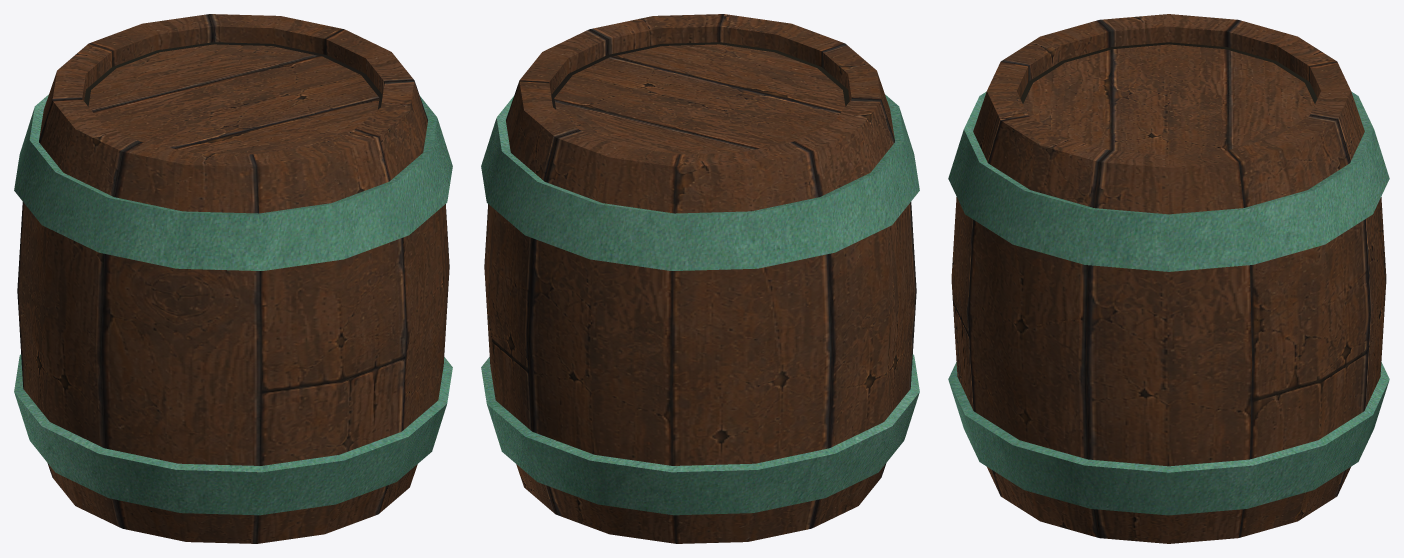
The model's file is Wood_Barrel_2.fbx.
The picture shows the model from 3 angles, left to right: view 1: azimuth 30°, elevation 25°; view 2: azimuth 150°, elevation 25°; view 3: azimuth 270°, elevation 25°; orthographic projection.
Visible parts, largest first — view 1: Wood_Barrel_2; view 2: Wood_Barrel_2; view 3: Wood_Barrel_2.
Boxes of the visible parts, x1,y1,x2,y2 form: Wood_Barrel_2: (14,14,452,543); Wood_Barrel_2: (481,14,919,543); Wood_Barrel_2: (948,14,1389,543).
Size of the model in its own units: 77.9 by 73.2 by 77.9.
